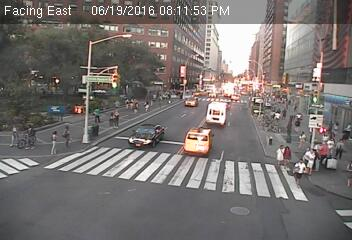neg: (248, 105, 263, 124), (206, 120, 219, 137), (250, 84, 263, 100), (211, 80, 222, 94), (225, 81, 234, 94)
pos: (44, 128, 67, 159), (57, 121, 79, 150), (87, 105, 105, 130), (295, 130, 311, 151), (142, 97, 154, 113)
